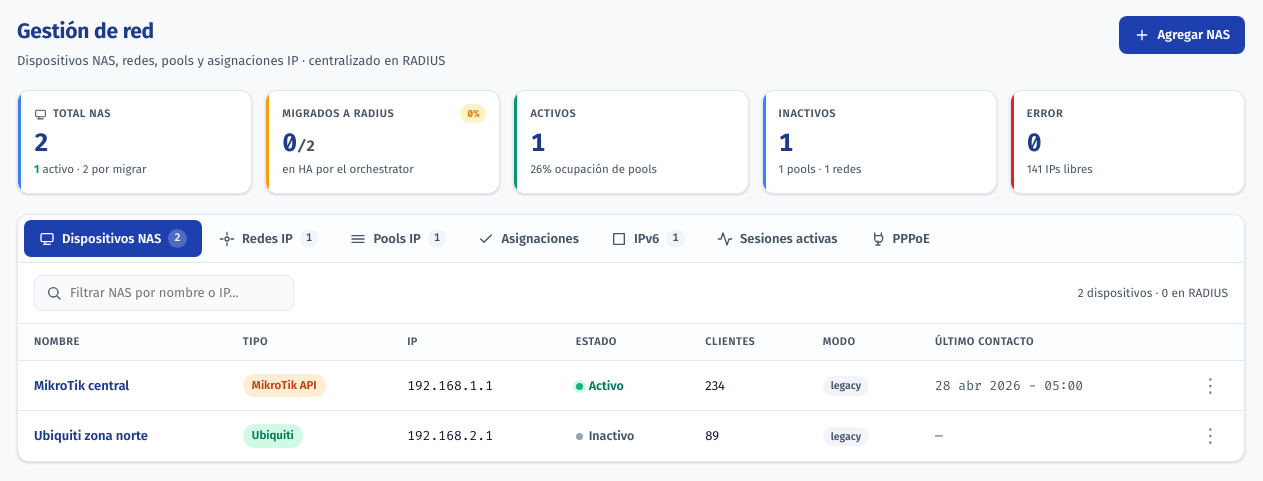
Scenario: GestionRedPage › switching to IPv6 tab shows network table
This screenshot has width=1263, height=481.
Click the button "IPv6 1" at (648, 239), box left=596, top=220, right=700, bottom=257
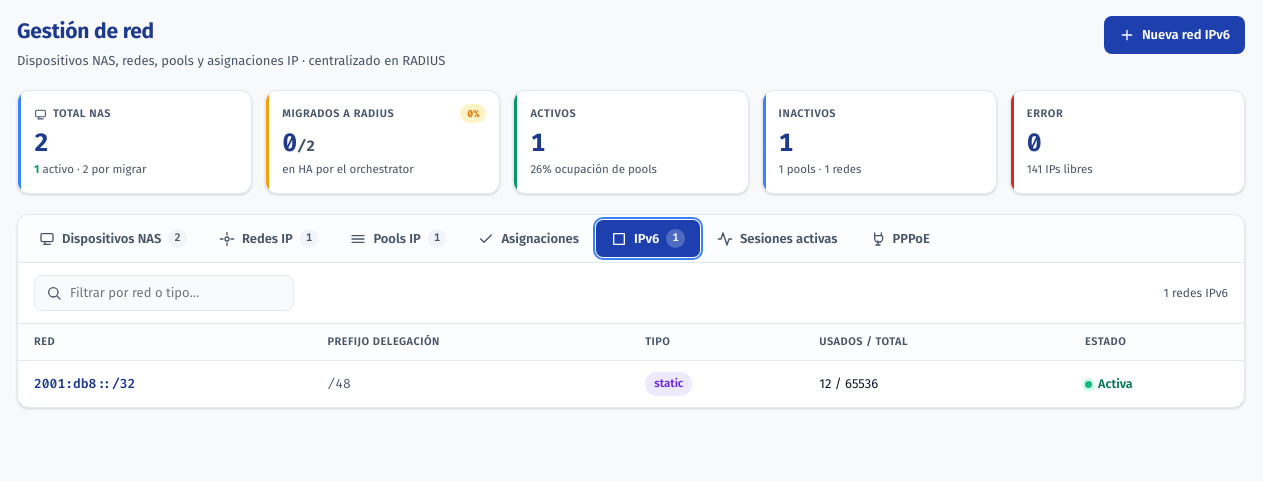
Now the text "2001:db8::/32" is shown, box left=18, top=361, right=311, bottom=406
